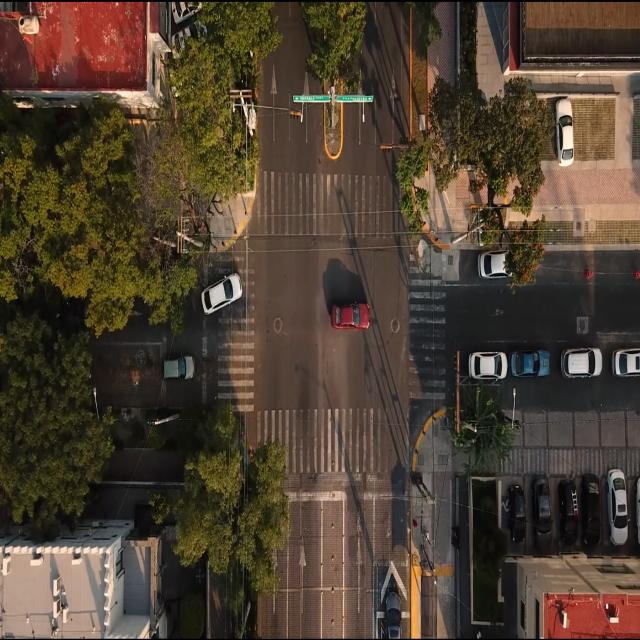cars: (201, 272, 242, 315), (606, 467, 628, 545), (560, 346, 602, 379), (558, 480, 580, 543), (554, 97, 574, 166), (376, 590, 402, 639), (468, 350, 508, 380), (510, 348, 550, 378), (331, 300, 370, 330), (583, 480, 601, 544), (507, 486, 527, 542), (533, 482, 552, 539), (478, 248, 513, 278), (612, 347, 640, 377), (163, 354, 194, 381)
